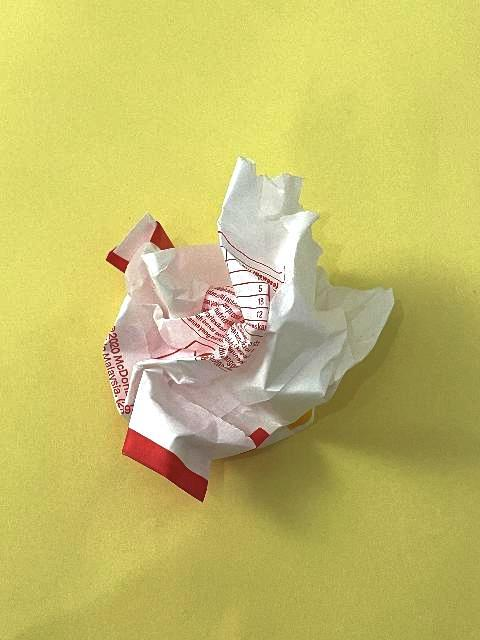paperbag: (98, 152, 399, 506)
